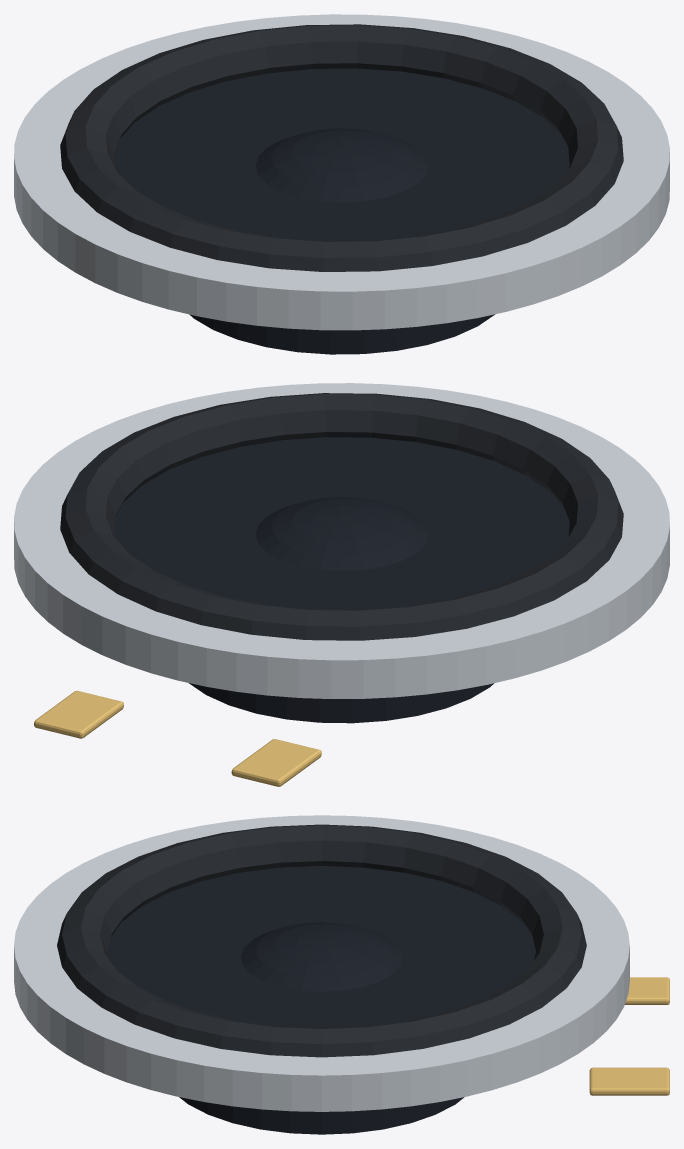
Rendered from speaker.glb.
3 renders of one model, top to bottom at view 1: azimuth 30°, elevation 25°; view 2: azimuth 150°, elevation 25°; view 3: azimuth 270°, elevation 25°, orthographic. The views are drawn at different scales.
Visible parts, largest first — view 1: Static body • black, Static body • silver, Static body • rubber; view 2: Static body • black, Static body • silver, Static body • rubber, Static body • gold; view 3: Static body • black, Static body • silver, Static body • rubber, Static body • gold.
Part boxes in pixels (x1,y1,x2,y2): Static body • black: [114, 68, 569, 354]; Static body • silver: [14, 14, 669, 330]; Static body • rubber: [60, 24, 623, 271]; Static body • black: [114, 437, 569, 723]; Static body • silver: [14, 383, 669, 698]; Static body • rubber: [60, 393, 623, 640]; Static body • gold: [34, 690, 321, 786]; Static body • black: [107, 866, 535, 1134]; Static body • silver: [14, 815, 629, 1111]; Static body • rubber: [57, 824, 586, 1057]; Static body • gold: [589, 977, 669, 1095].
Size of the model in its own units: 46 by 11.5 by 49.
